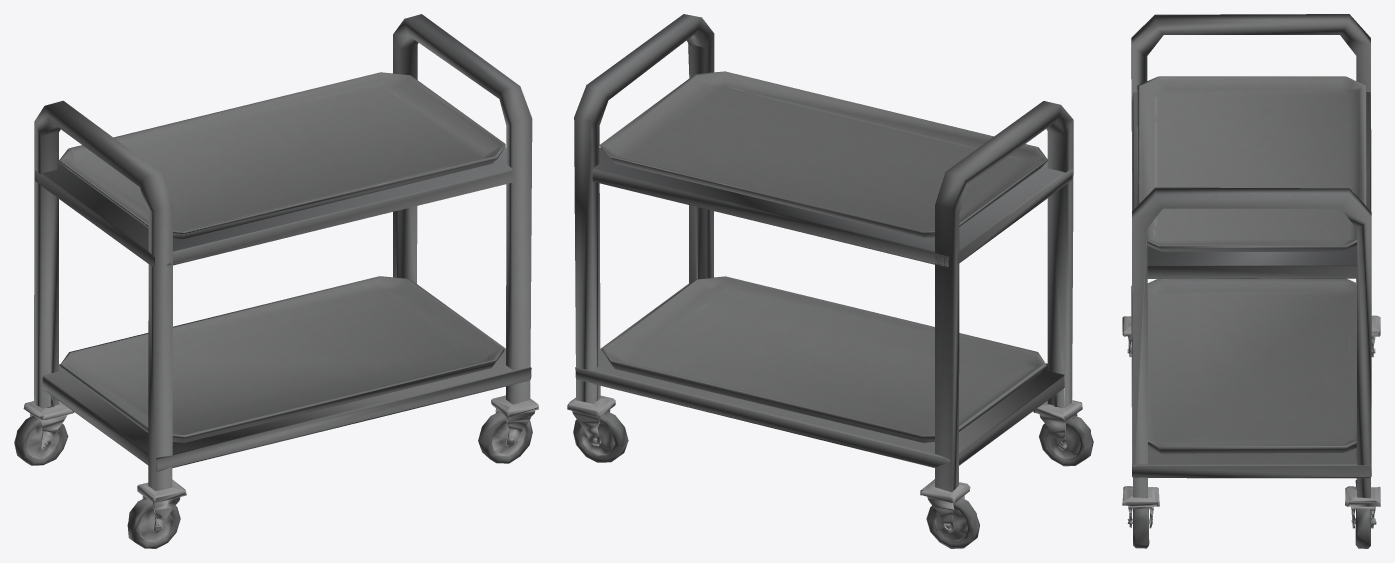
The model's file is Trolly (1).fbx.
3 renders of one model, left to right at view 1: azimuth 30°, elevation 25°; view 2: azimuth 150°, elevation 25°; view 3: azimuth 270°, elevation 25°, orthographic.
Parts seen in each view (by area): view 1: mesh_node; view 2: mesh_node; view 3: mesh_node.
Boxes of the visible parts, x1,y1,x2,y2 form: mesh_node: (14,14,538,548); mesh_node: (567,14,1093,548); mesh_node: (1122,14,1380,548).
Bounding box in the file's own units: 100 × 87.5 × 56.64.
1 material, 1 textured.
